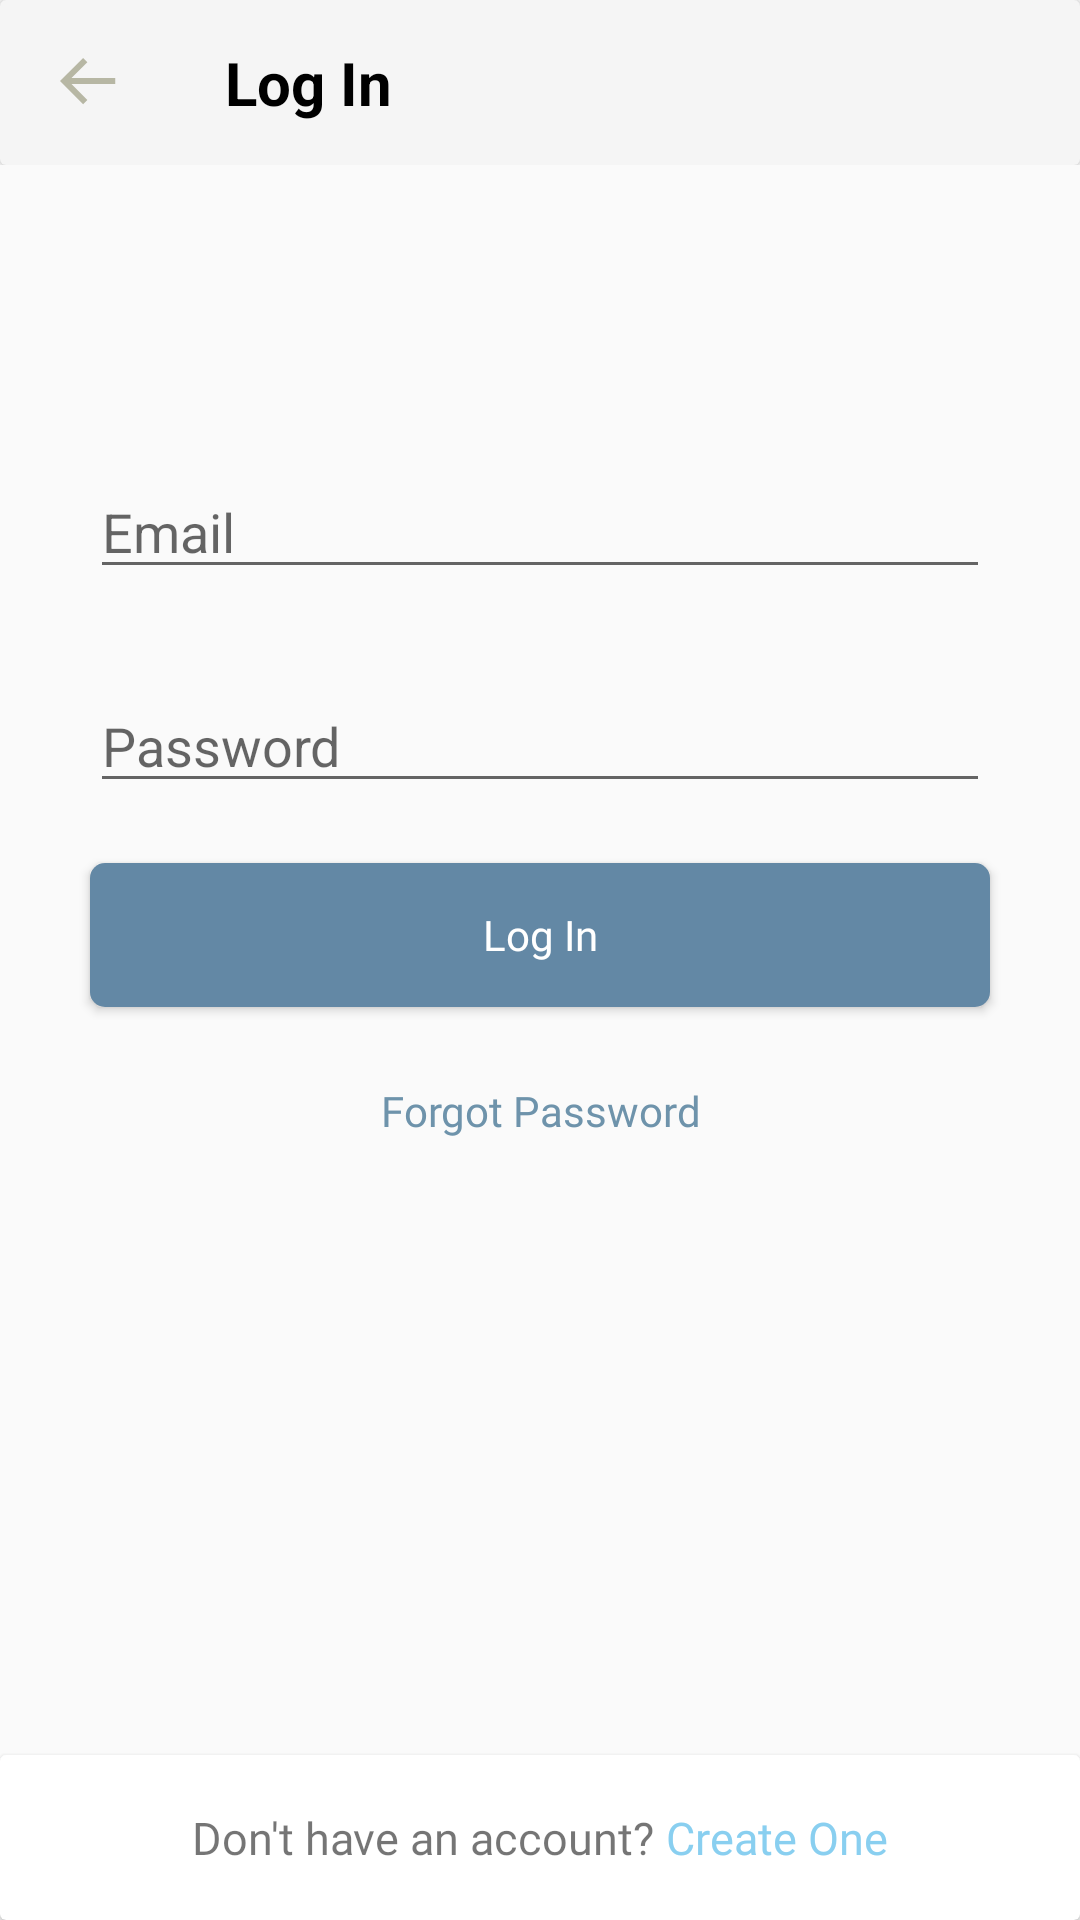

Point at icon controls on the screen. Image size 1080×1920, points as [x,y].
backarrow: [87,81]
